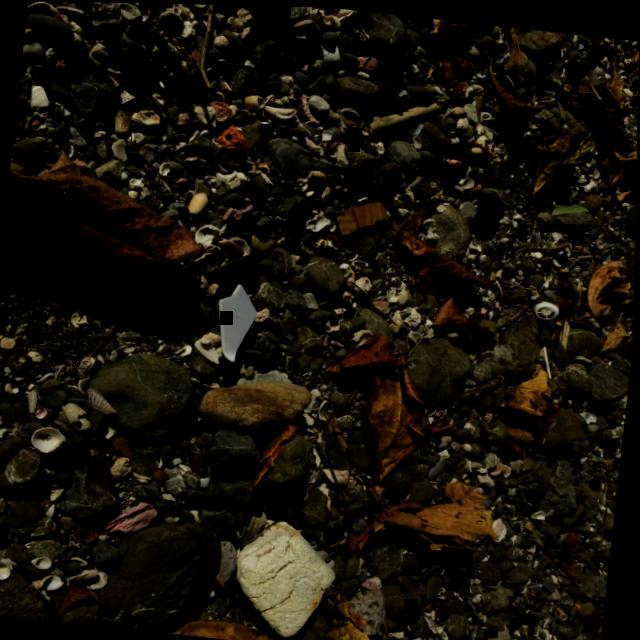Other plastic bottle: (219, 282, 257, 361), (533, 298, 559, 317), (541, 338, 552, 376)
Styrofoam piece: (234, 518, 337, 636)
